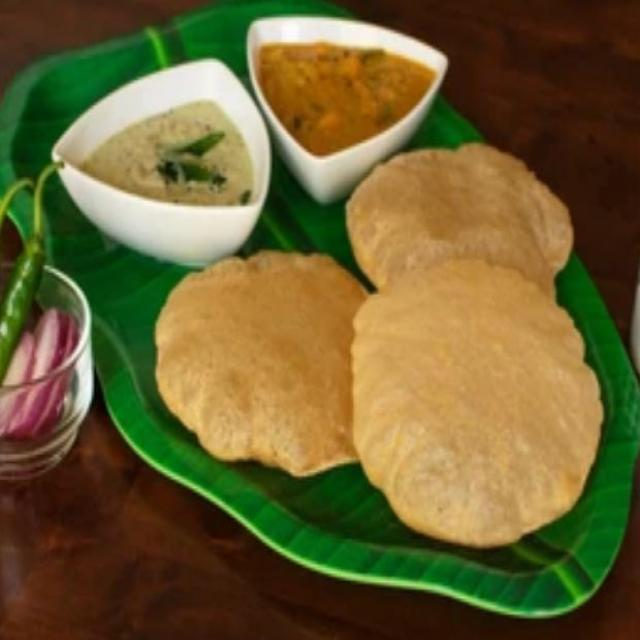KURMA: (250, 24, 441, 170)
POORI: (98, 148, 638, 583)
WHITE CHUTNEY: (37, 46, 276, 235)
